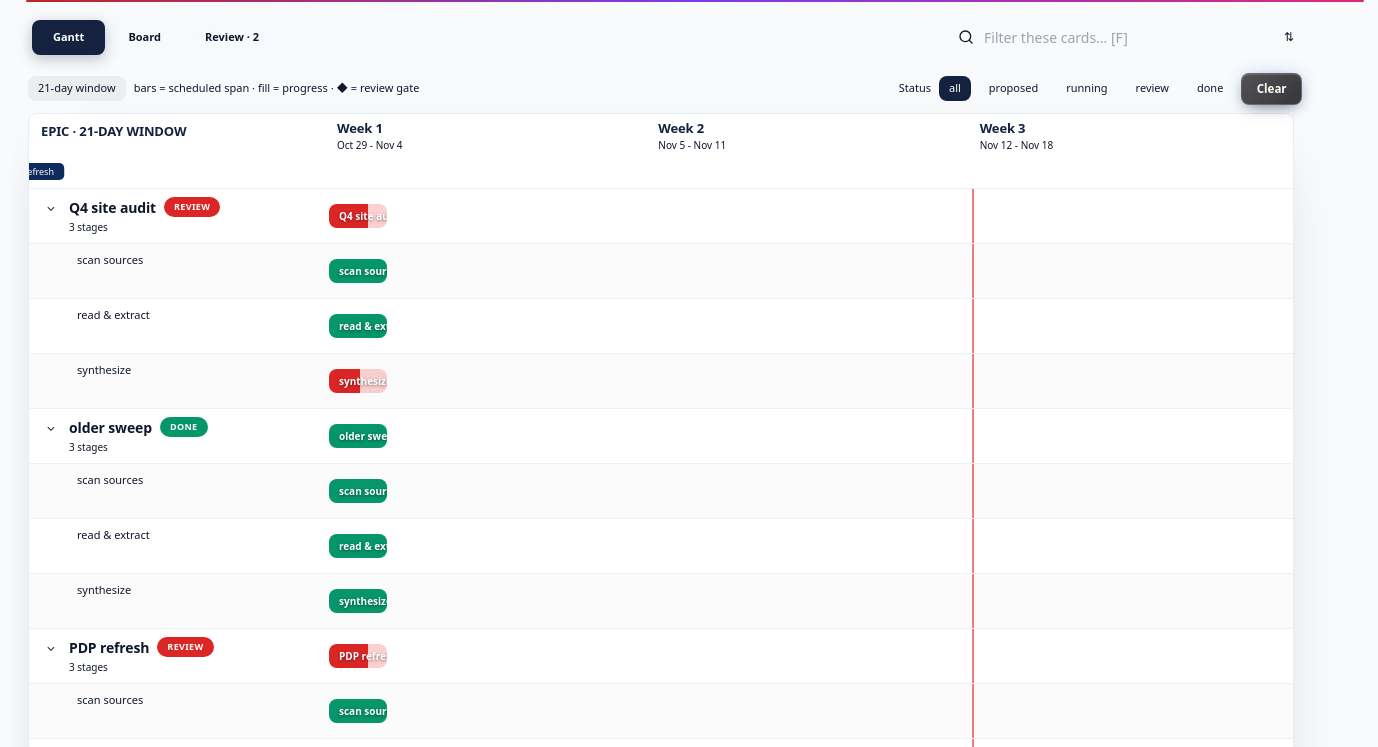
Test: AssignmentsWindow · v13 win-assignments (waterfall / board / review) › askbar filters the gantt by title
The width and height of the screenshot is (1378, 747).
Type "PDP" into the field with placeholder "Filter these cards... [F]" at {"x": 1129, "y": 37}, box [984, 27, 1274, 48]
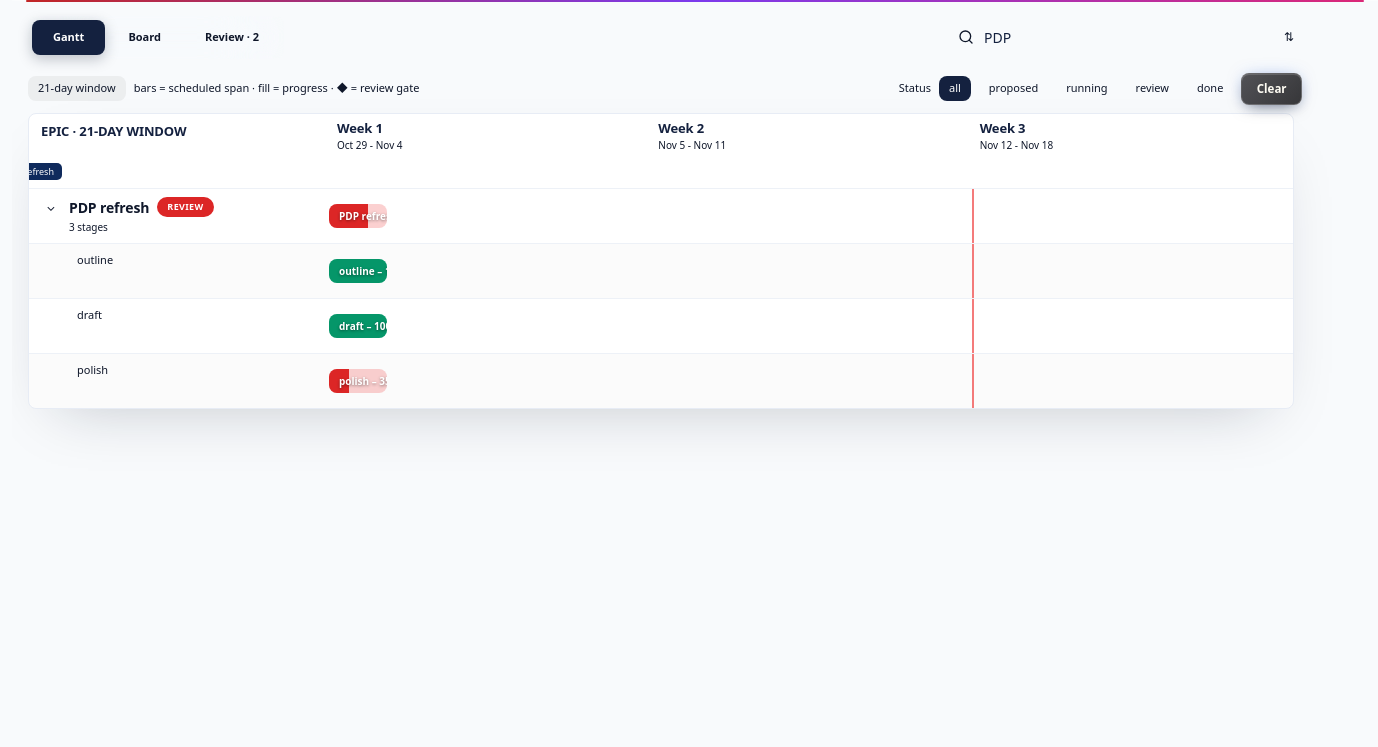
Check: the number of elements with class "gantt-kid-label" is 3, box [77, 252, 113, 266]; [77, 306, 102, 322]; [77, 362, 108, 376]
